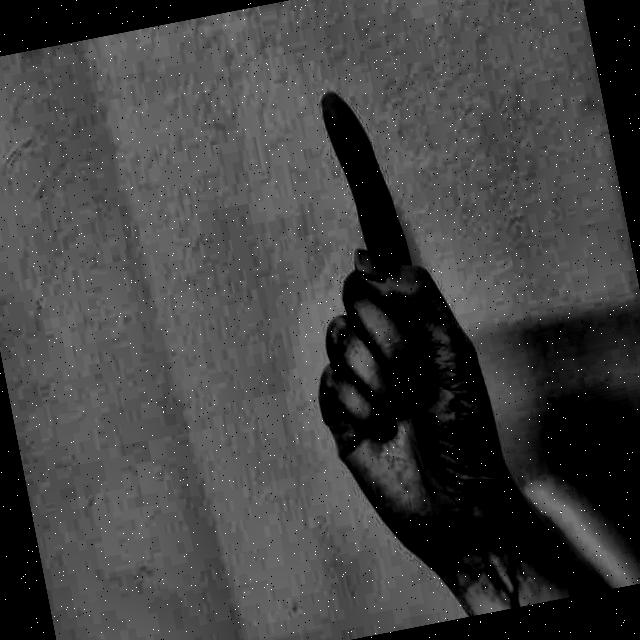U: (214, 19, 568, 588)
